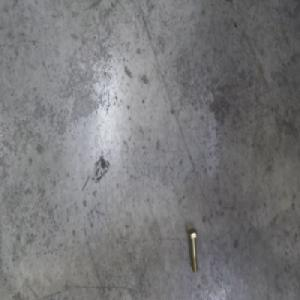Bolt: (187, 227, 199, 274)
